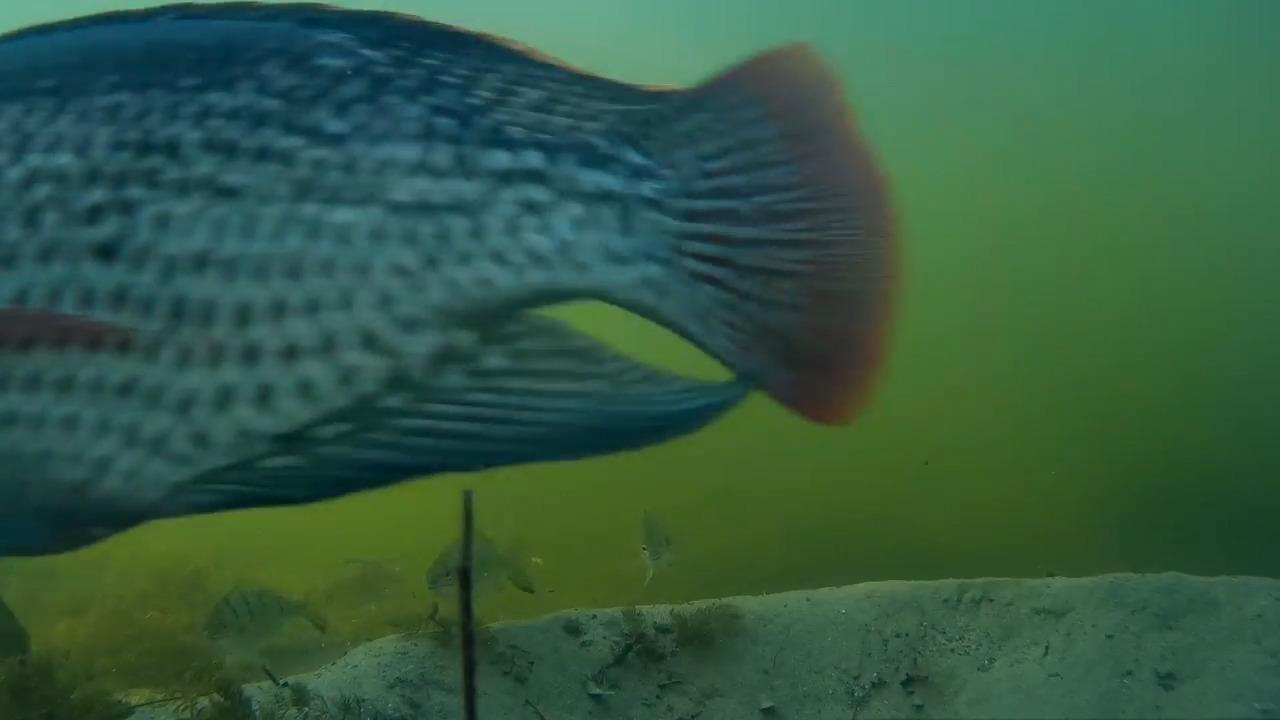Tilapia: (0, 0, 923, 616), (604, 496, 773, 654), (424, 524, 569, 658), (179, 552, 332, 654)
